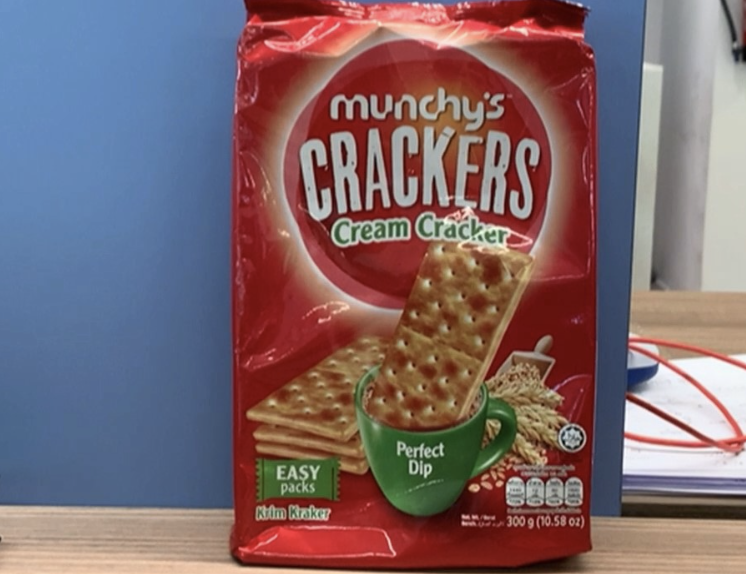crackers_150g: (243, 72, 588, 535)
